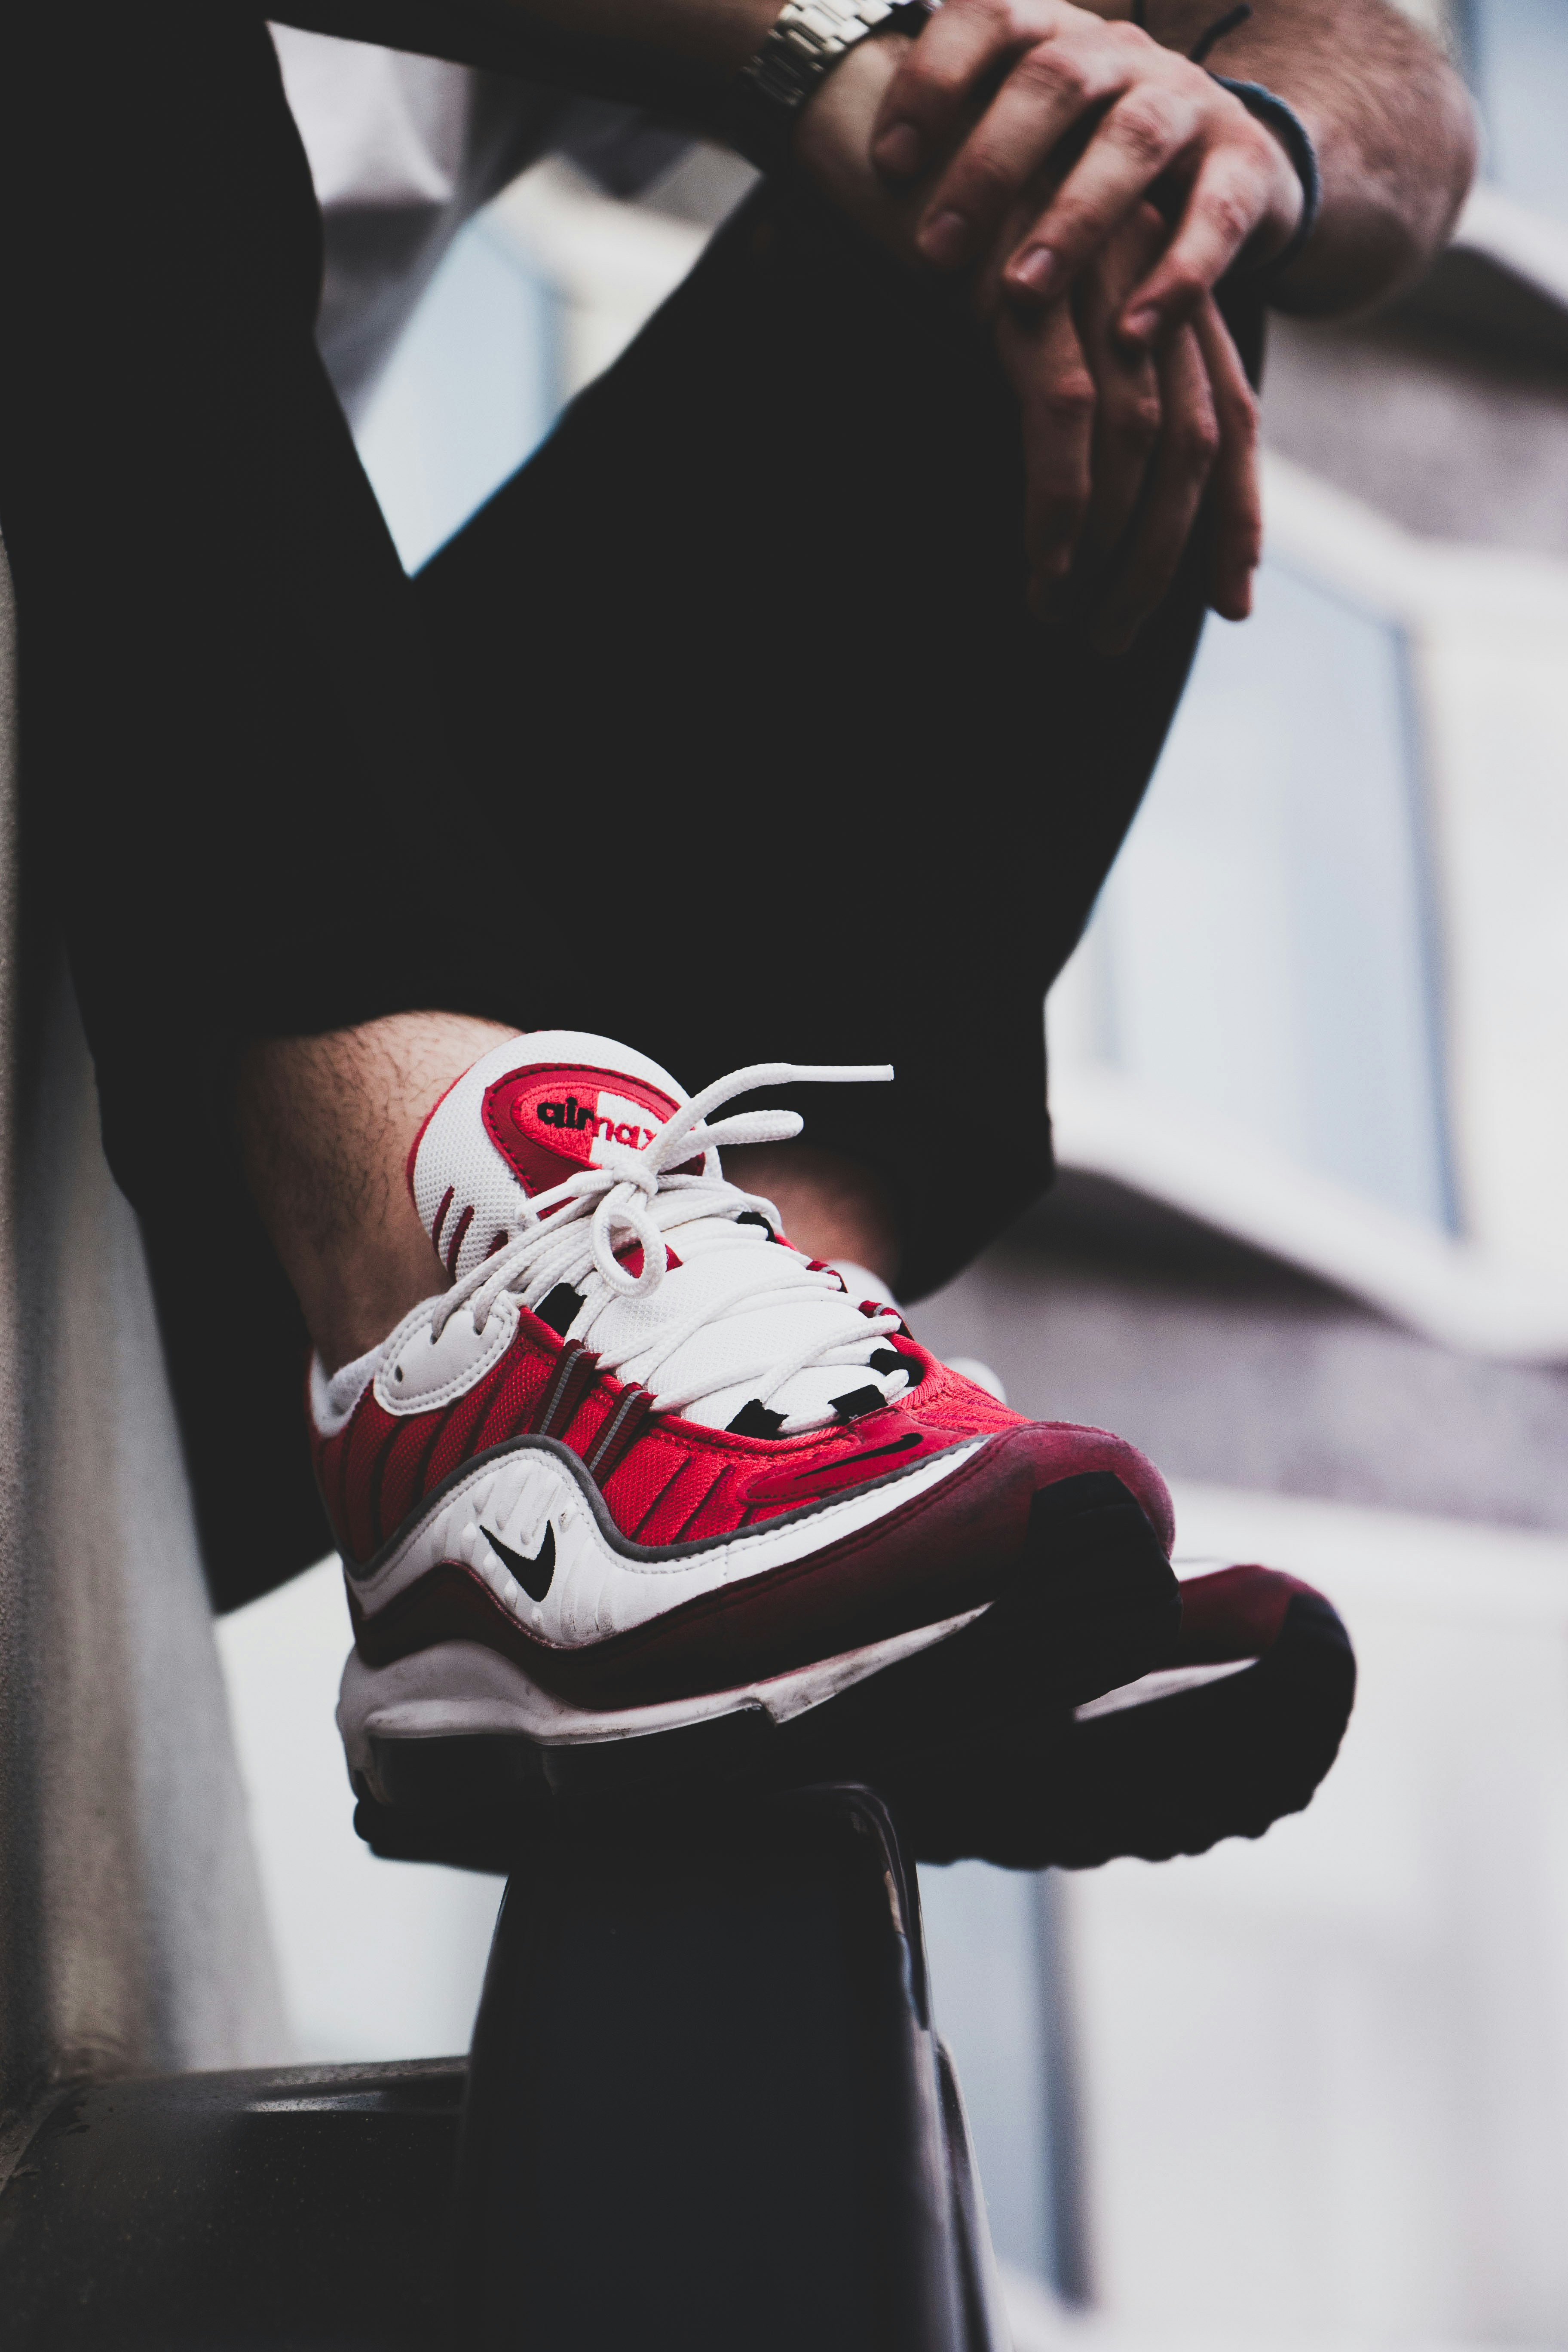Footwear: (259, 1032, 1176, 1830)
